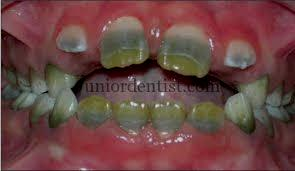Discoloration: (150, 25, 220, 82), (93, 18, 154, 73), (108, 99, 156, 138), (40, 59, 84, 101), (149, 97, 186, 139), (222, 90, 258, 133), (234, 73, 275, 109), (190, 93, 228, 130), (79, 91, 111, 126), (54, 89, 81, 124)
